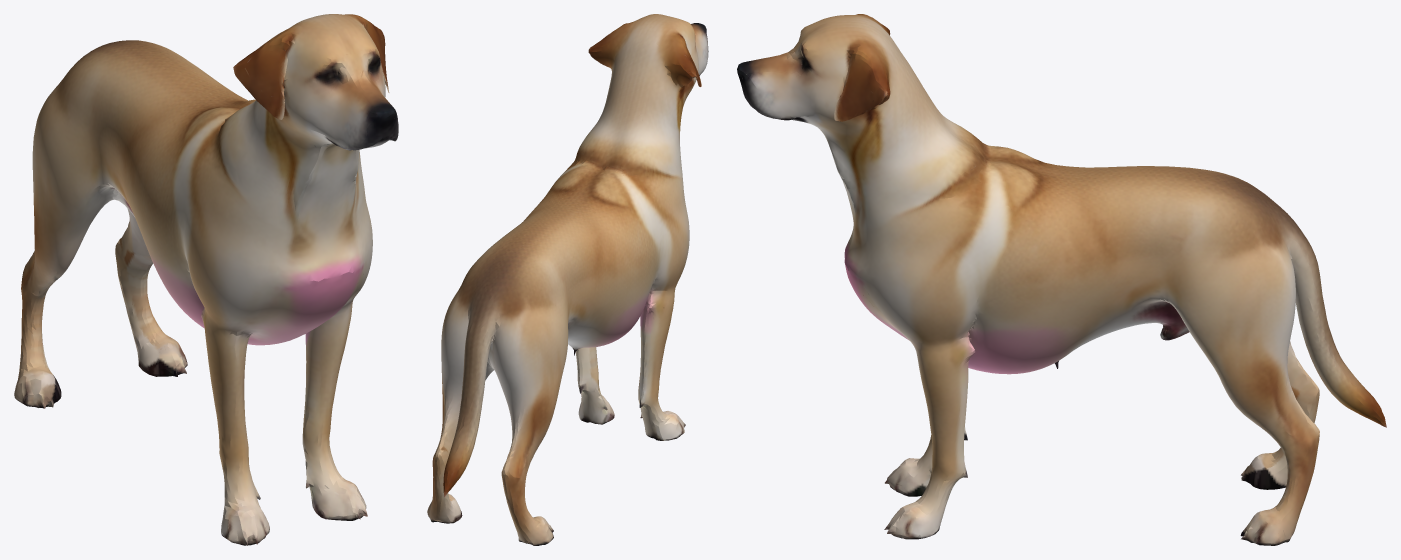
File: pregnant_dog.glb
3 renders of one model, left to right at view 1: azimuth 30°, elevation 25°; view 2: azimuth 150°, elevation 25°; view 3: azimuth 270°, elevation 25°, orthographic. The views are drawn at different scales.
Parts seen in each view (by area): view 1: model; view 2: model; view 3: model.
Boxes of the visible parts, x1,y1,x2,y2 form: model: (14, 14, 398, 545); model: (427, 14, 708, 545); model: (737, 14, 1386, 545).
Bounding box in the file's own units: 0.5154 × 1.58 × 1.9.
Materials: 1 (1 with a texture image).
